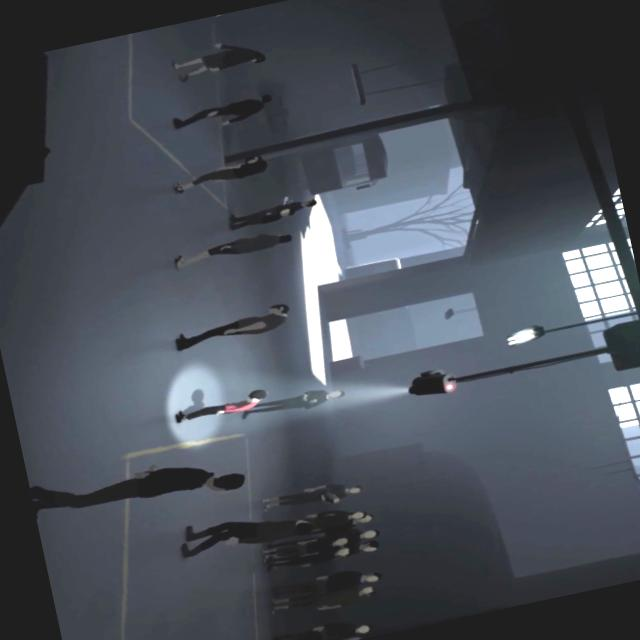boy: (171, 387, 270, 427)
human: (28, 442, 245, 531), (264, 561, 380, 604), (258, 504, 366, 543), (238, 383, 344, 422), (270, 584, 377, 622), (266, 477, 364, 518), (262, 544, 356, 577), (260, 532, 350, 564), (267, 614, 375, 640), (227, 205, 296, 232), (350, 526, 380, 544), (291, 196, 318, 215)
zombie: (176, 500, 322, 564), (171, 303, 292, 352), (172, 227, 292, 269), (170, 92, 274, 134), (171, 153, 268, 195), (171, 38, 264, 80), (180, 622, 322, 640)
